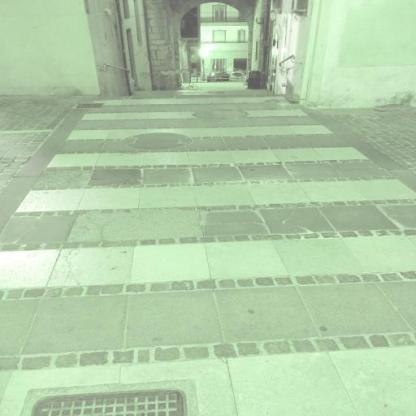crosswalk: (0, 174, 416, 304), (57, 109, 342, 143)
